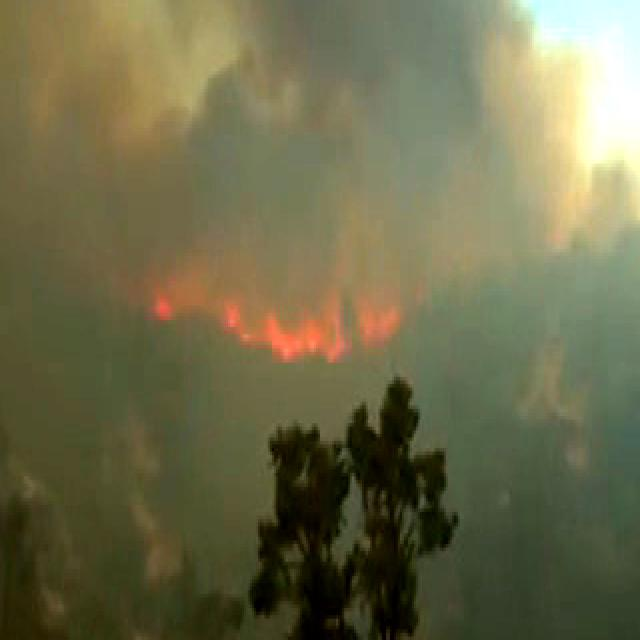fire: (157, 271, 403, 362)
